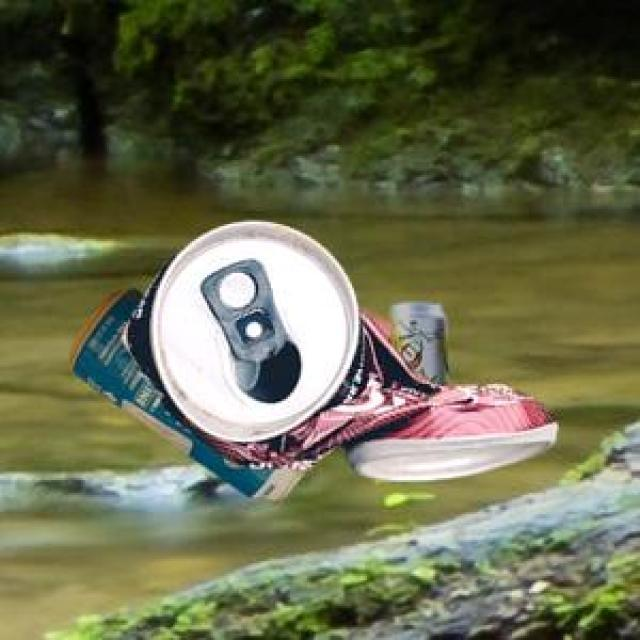Can: (118, 219, 554, 479), (67, 285, 302, 500), (389, 300, 445, 383)
